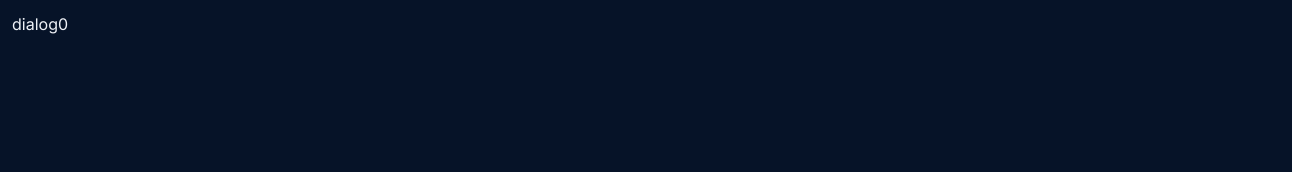
Scenario: idle timer › any pointer input while the dialog is open restarts its countdown
This screenshot has width=1292, height=172.
Later steps or results of the test are not shown.
Expected: the text with test id "phase" reads "dialog", [12,14,58,34]
Press the mouse on the element showing "dialog0" at {"x": 652, "y": 24}, box [12,12,1291,37]
Wait 21000 ms
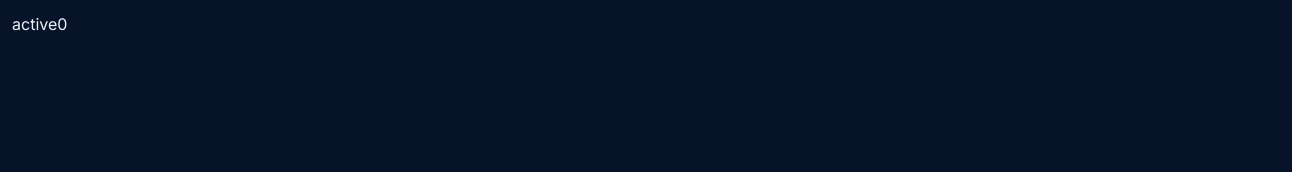
Expected: the text with test id "phase" reads "active", [12,14,57,34]
